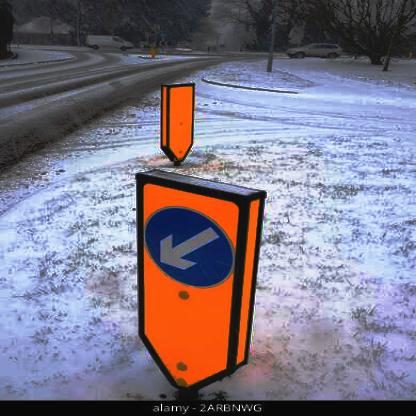Keep left: (141, 200, 238, 290)
